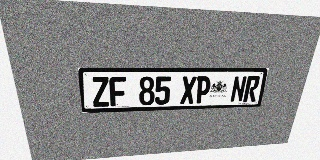5: (155, 76, 171, 105)
8: (139, 76, 155, 105)
F: (109, 77, 127, 106)
N: (230, 76, 247, 102)
P: (194, 76, 211, 104)
R: (243, 76, 261, 102)
X: (180, 76, 197, 104)
Z: (91, 77, 110, 107)
